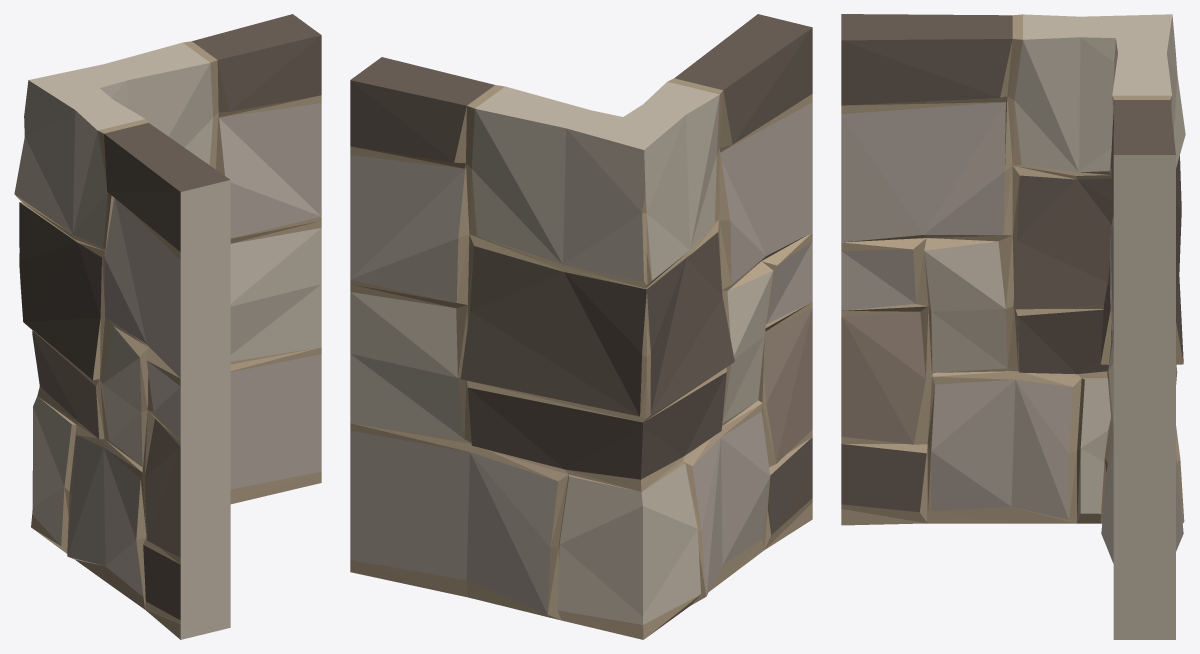
File: RG-Dungeon_Corner-wall-01.fbx
The picture shows the model from 3 angles, left to right: view 1: azimuth 30°, elevation 25°; view 2: azimuth 150°, elevation 25°; view 3: azimuth 270°, elevation 25°; orthographic projection. The views are drawn at different scales.
Parts seen in each view (by area): view 1: RG-Dungeon_Corner-wall-01; view 2: RG-Dungeon_Corner-wall-01; view 3: RG-Dungeon_Corner-wall-01.
Boxes of the visible parts, x1,y1,x2,y2 form: RG-Dungeon_Corner-wall-01: [14, 14, 321, 639]; RG-Dungeon_Corner-wall-01: [350, 14, 812, 639]; RG-Dungeon_Corner-wall-01: [841, 14, 1185, 639].
Bounding box in the file's own units: 10.37 × 16.05 × 10.33.
